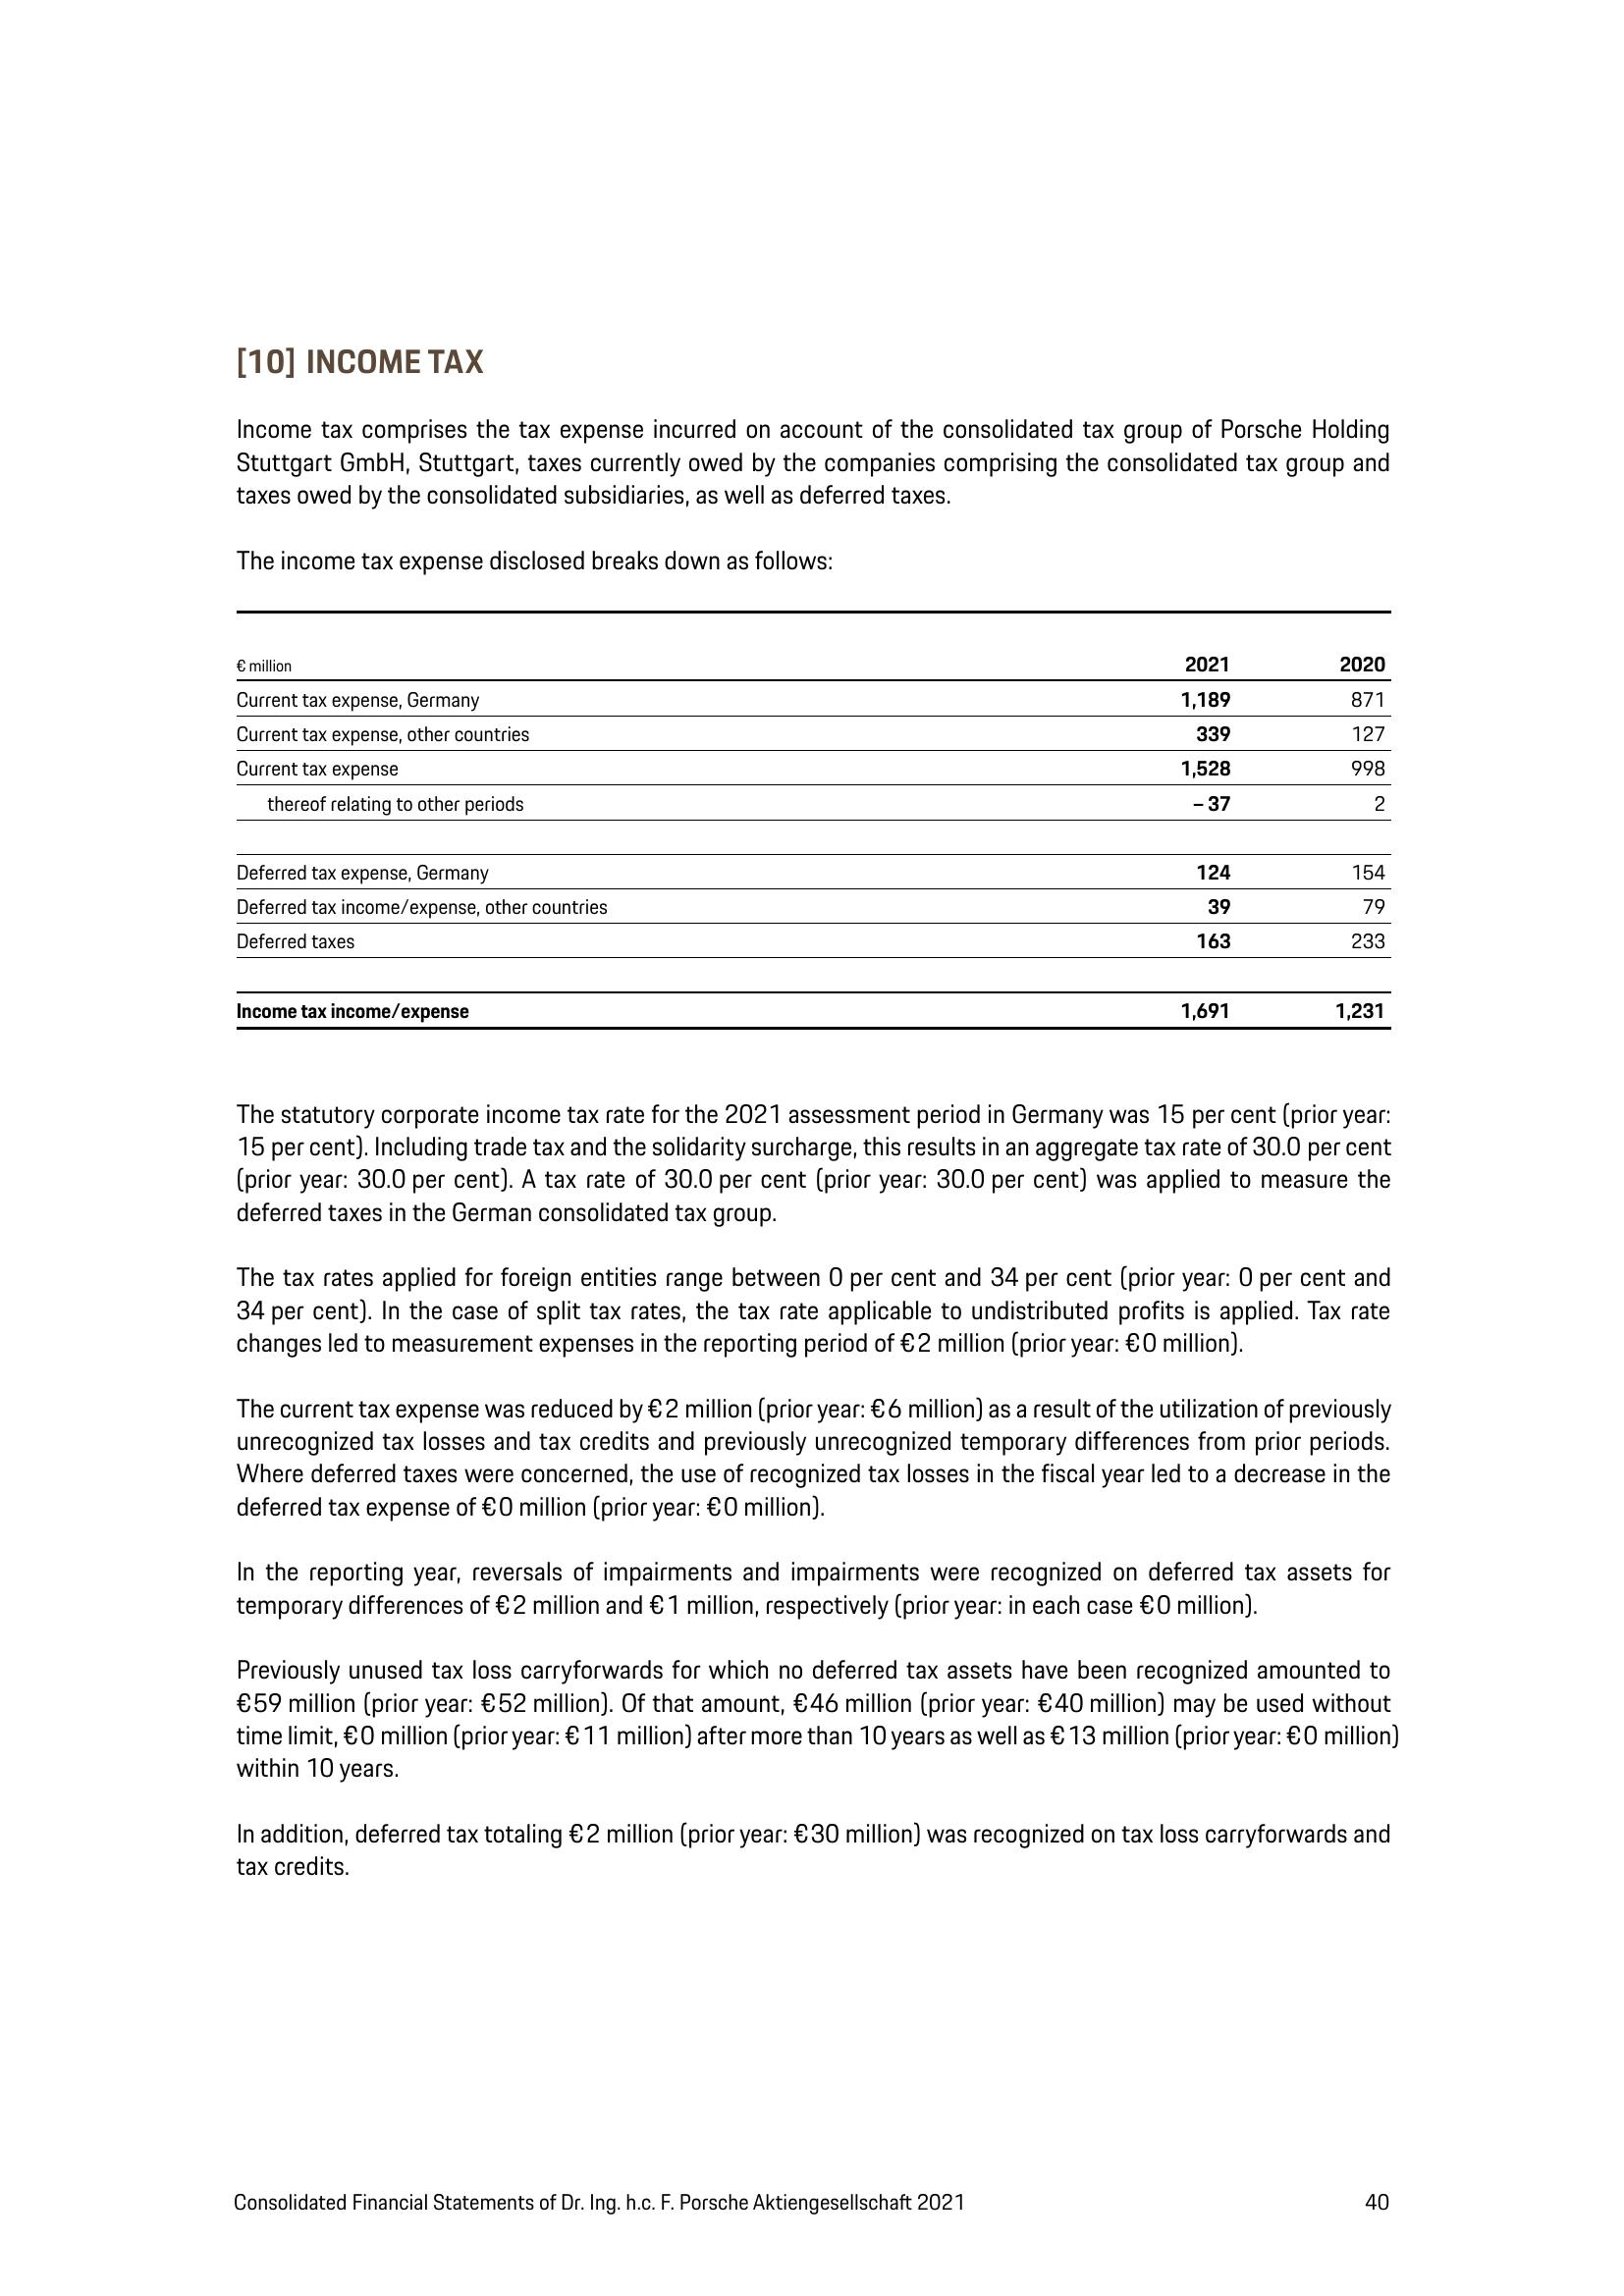Footer: (0, 2161, 1624, 2296)
Header: (0, 0, 1624, 214)
Table: (236, 604, 1417, 1029)
